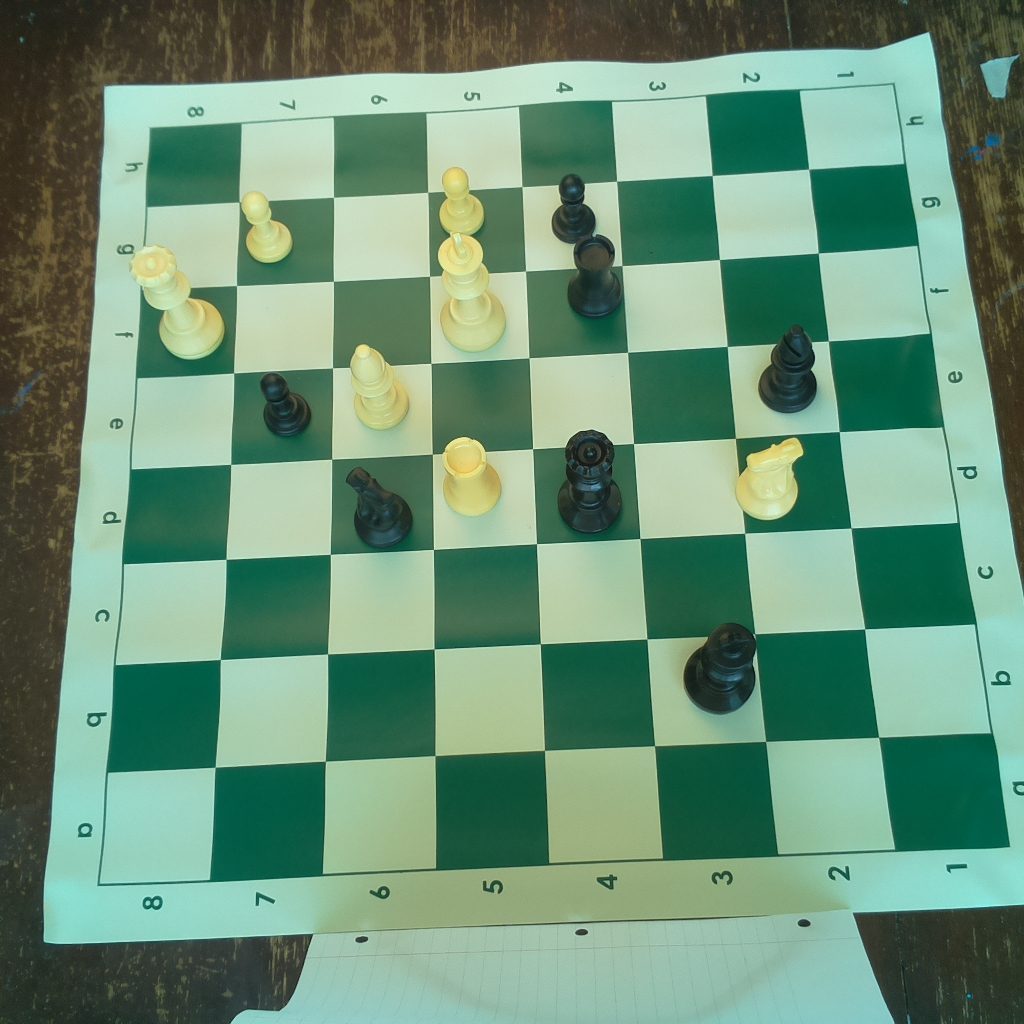black_bishop: (754, 319, 820, 419)
black_king: (681, 617, 759, 714)
black_knight: (334, 460, 415, 549)
black_pawn: (545, 167, 597, 244), (255, 370, 315, 436)
black_queen: (554, 427, 629, 538)
black_rook: (567, 231, 627, 321)
file_a: (96, 735, 1010, 887)
file_b: (108, 623, 994, 774)
file_c: (116, 521, 977, 666)
file_d: (123, 428, 960, 566)
file_e: (133, 336, 944, 467)
file_f: (134, 245, 932, 379)
file_g: (140, 164, 918, 290)
file_h: (145, 82, 906, 208)
outline: (99, 82, 1012, 884)
rank_1: (799, 80, 1011, 854)
rank_2: (707, 90, 897, 856)
rank_3: (611, 92, 780, 860)
rank_4: (516, 99, 664, 862)
rank_5: (424, 105, 551, 874)
rank_6: (319, 110, 436, 873)
rank_7: (212, 117, 332, 883)
rank_8: (99, 122, 244, 883)
white_bishop: (342, 338, 411, 434)
white_king: (431, 230, 511, 354)
white_knight: (729, 431, 808, 522)
white_pawn: (234, 183, 294, 264), (434, 161, 490, 238)
white_queen: (121, 239, 229, 364)
white_rook: (433, 430, 507, 522)
